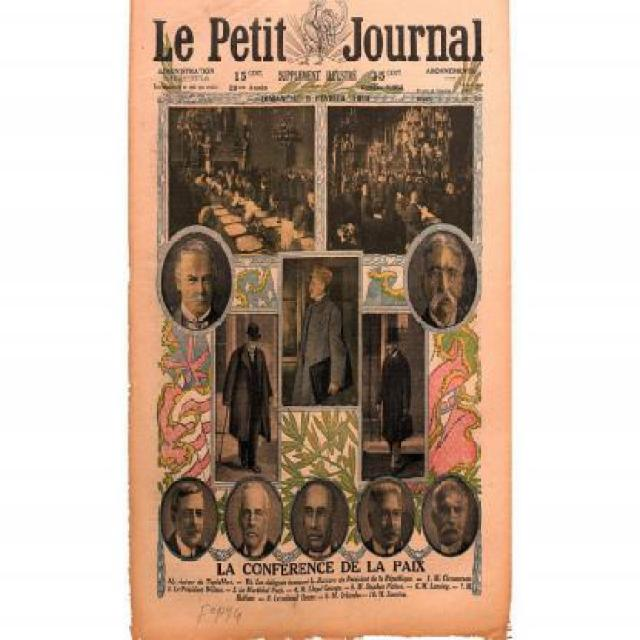Person: (329, 168, 473, 254), (178, 159, 316, 233), (290, 264, 348, 404), (224, 325, 271, 486), (374, 327, 412, 476), (172, 238, 222, 332), (420, 232, 466, 328), (168, 482, 208, 558), (238, 482, 276, 558), (432, 478, 470, 553), (303, 482, 339, 560), (366, 484, 402, 556)
